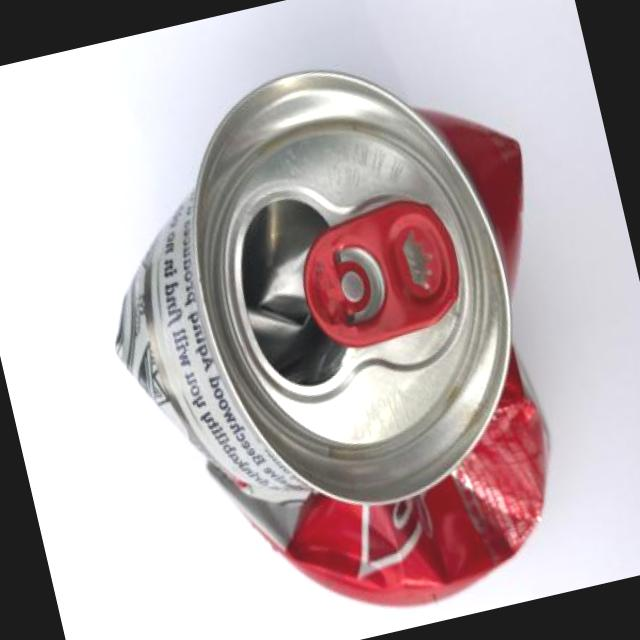kim_loai: (115, 70, 549, 606)
